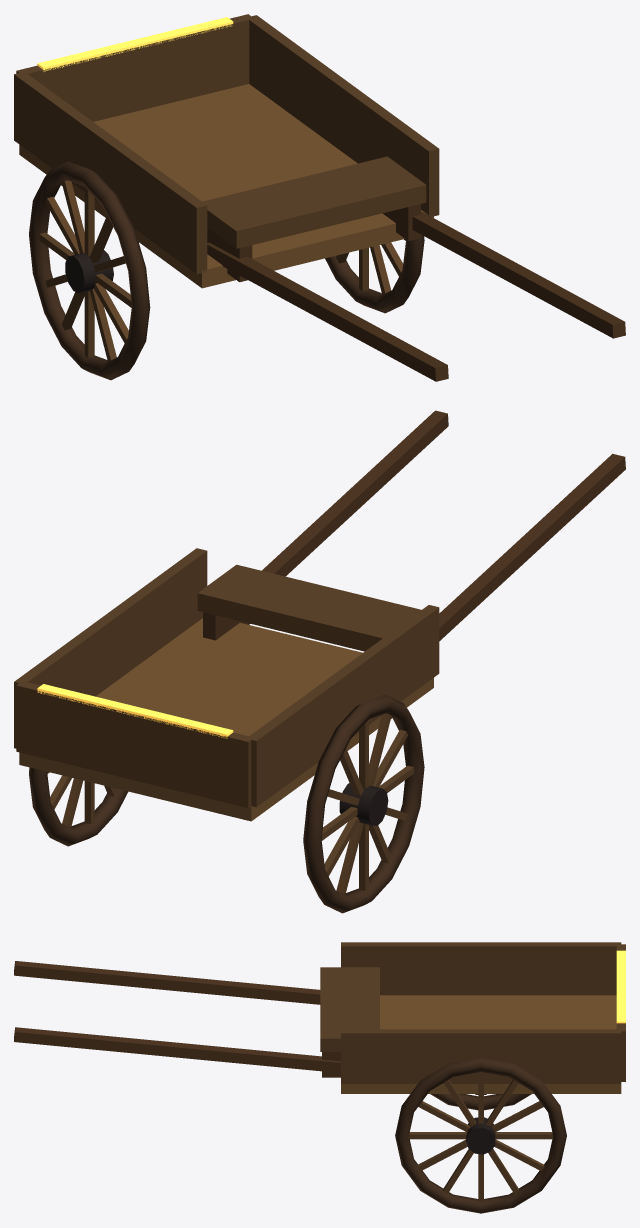
The model's file is cart.glb.
The picture shows the model from 3 angles, top to bottom: view 1: azimuth 30°, elevation 25°; view 2: azimuth 150°, elevation 25°; view 3: azimuth 270°, elevation 25°; orthographic projection. The views are drawn at different scales.
Visible parts, largest first — view 1: cart_body, wheel_R, cart_bench, wheel_L; view 2: cart_body, wheel_R, cart_bench, wheel_L; view 3: cart_body, wheel_L, cart_bench, wheel_R.
Boxes of the visible parts, box(x1,y1,x2,y2) form: cart_body: box(14, 14, 625, 381); wheel_R: box(29, 161, 150, 380); cart_bench: box(202, 156, 426, 282); wheel_L: box(325, 235, 424, 313); cart_body: box(14, 410, 625, 821); wheel_R: box(303, 694, 424, 913); cart_bench: box(197, 564, 421, 651); wheel_L: box(29, 767, 128, 846); cart_body: box(14, 942, 625, 1094); wheel_L: box(395, 1058, 566, 1213); cart_bench: box(320, 967, 379, 1077); wheel_R: box(430, 1094, 531, 1110).
Size of the model in its own units: 1.44 by 1.04 by 3.27.
